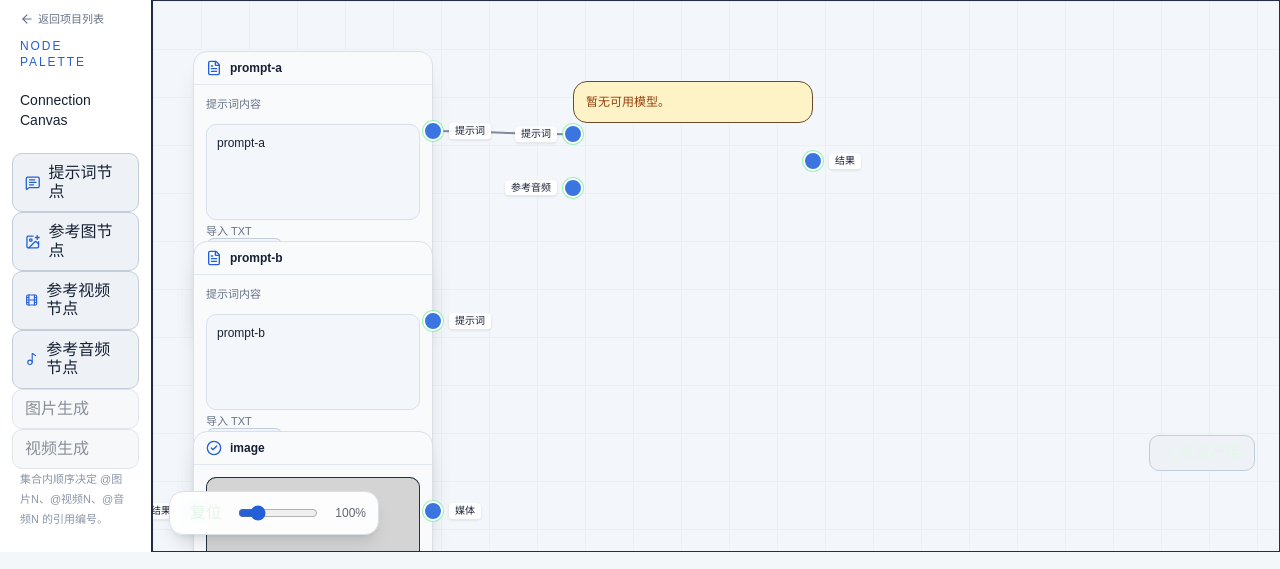
Test: canvas named-port interactions › announces the duplicate rejection while keeping a valid source available for retry
Click the button with aria-label "prompt-a：提示词输出端口" at [433, 131], box [423,121,443,141]
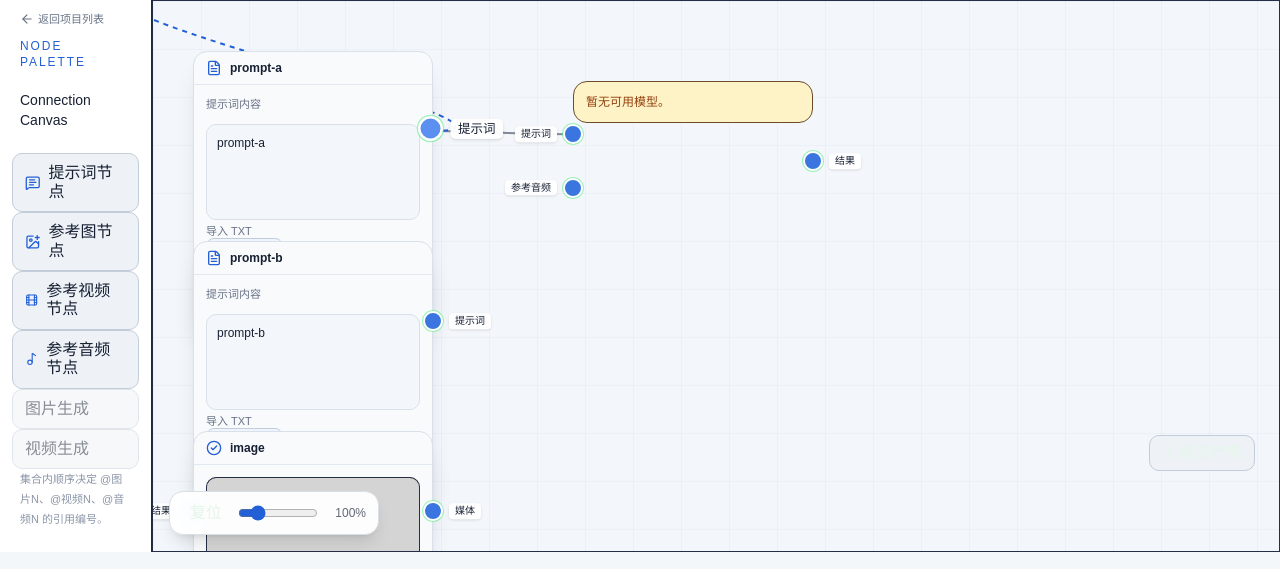
Click the button with aria-label "model：提示词输入端口" at [573, 134], box [563,124,583,144]
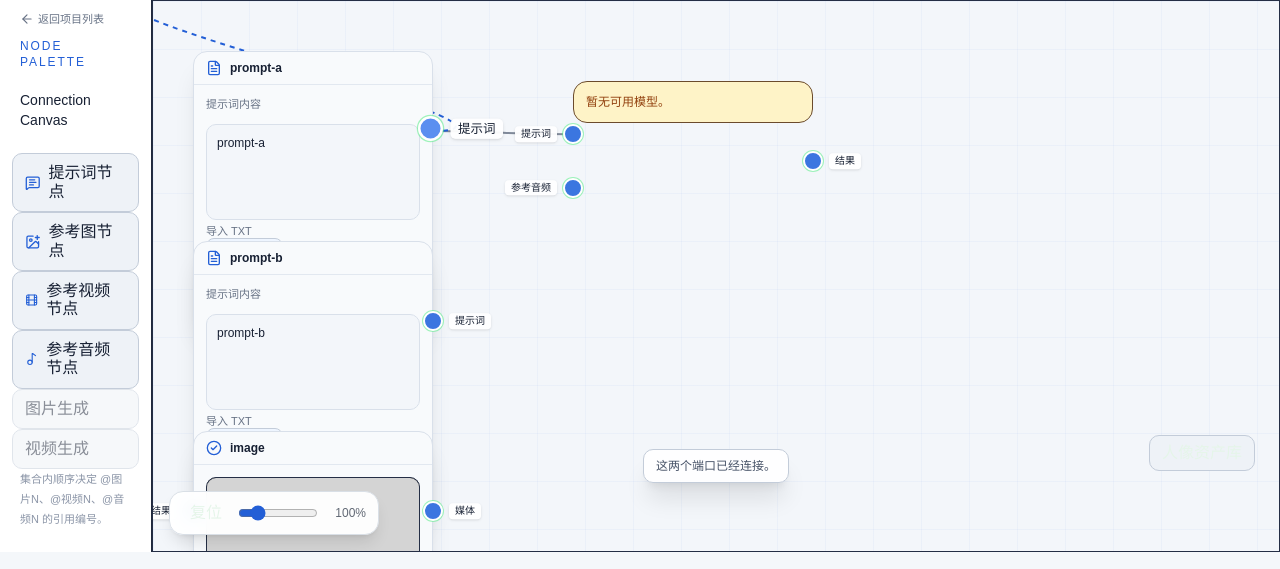
Check: the message with test id "connection-status" reads "这两个端口已经连接。", box [656,459,776,473]
